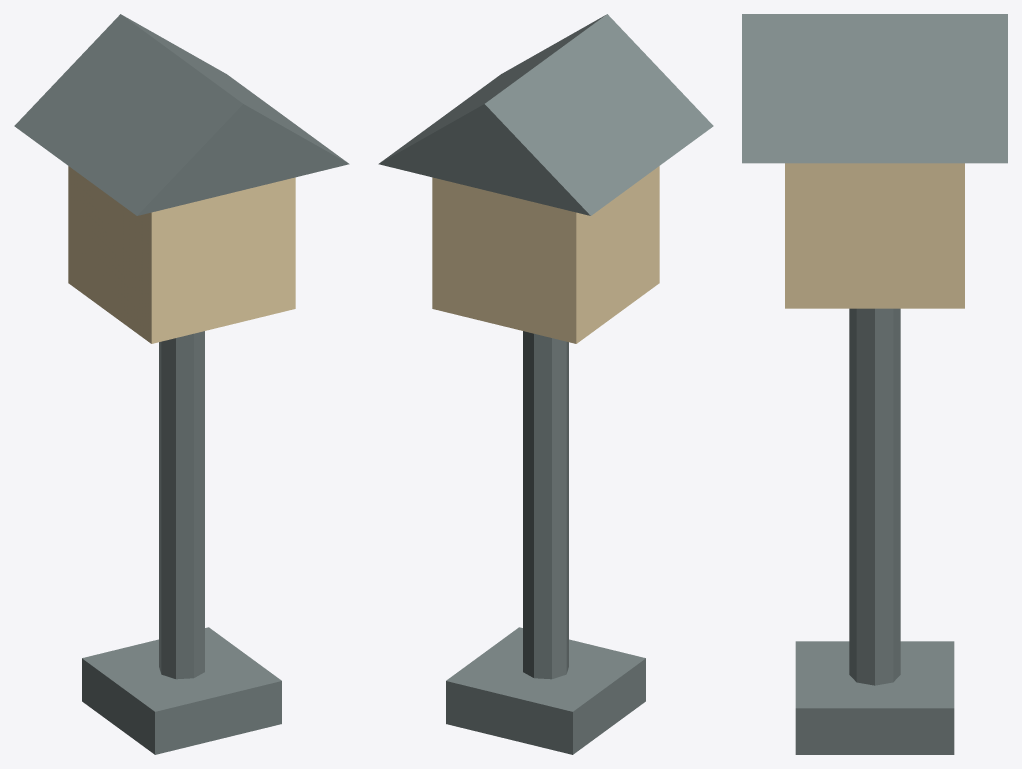
The model's file is trail-lantern.glb.
The picture shows the model from 3 angles, left to right: view 1: azimuth 30°, elevation 25°; view 2: azimuth 150°, elevation 25°; view 3: azimuth 270°, elevation 25°; orthographic projection. The views are drawn at different scales.
Visible parts, largest first — view 1: Trail lantern cap, Warm lantern pane, Lantern foot, Short trail post; view 2: Trail lantern cap, Warm lantern pane, Lantern foot, Short trail post; view 3: Trail lantern cap, Warm lantern pane, Short trail post, Lantern foot.
Boxes of the visible parts, x1,y1,x2,y2 form: Trail lantern cap: (14, 14, 349, 215); Warm lantern pane: (68, 166, 295, 343); Lantern foot: (82, 627, 281, 754); Short trail post: (159, 331, 204, 679); Trail lantern cap: (378, 14, 713, 215); Warm lantern pane: (432, 166, 659, 343); Lantern foot: (446, 627, 645, 754); Short trail post: (523, 331, 568, 679); Trail lantern cap: (742, 14, 1007, 163); Warm lantern pane: (785, 163, 964, 308); Short trail post: (849, 308, 900, 685); Lantern foot: (795, 641, 954, 754).
Size of the model in its own units: 0.62 by 1.82 by 0.62.
